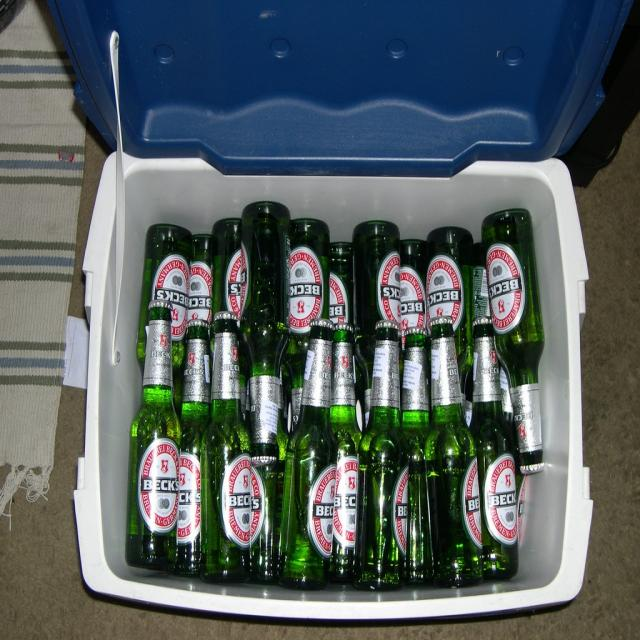becks: (137, 438, 183, 534), (486, 244, 527, 334), (152, 254, 191, 341), (484, 454, 520, 546), (426, 255, 465, 334), (290, 247, 325, 333), (221, 454, 252, 547), (307, 465, 337, 558), (333, 455, 358, 548), (179, 454, 203, 545), (461, 462, 483, 548), (378, 251, 403, 324), (401, 265, 428, 332), (392, 468, 410, 556), (188, 262, 214, 322), (250, 465, 265, 545), (330, 271, 351, 325), (226, 253, 242, 321)
